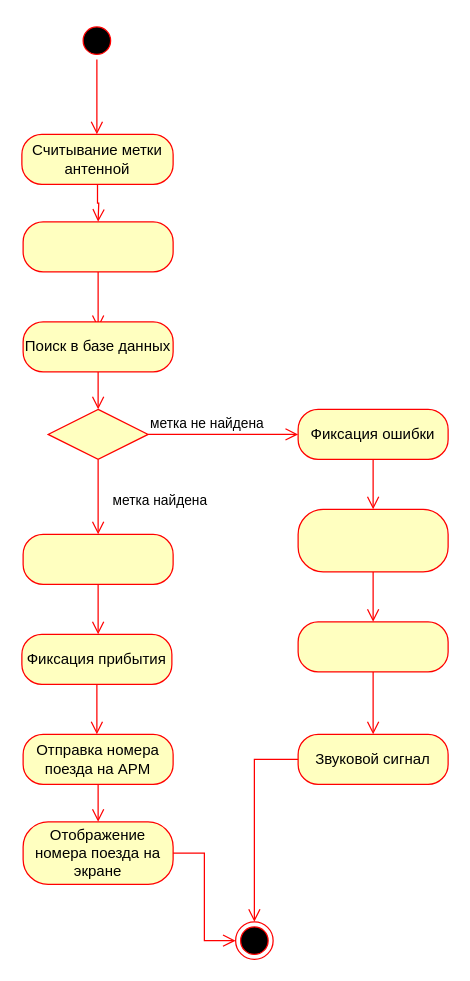
This 470x981 diagram has some shape labels left out. Here are the shapes that lost their labels. From the top down, the centre of each, then its label:
At point 97,246: "Передача номера метки в систему".
At point 97,558: "Определение номера поезда".
At point 372,540: "Отправка сообщения об ошибке на АРМ".
At point 372,646: "Отображение ошибки на экране".
